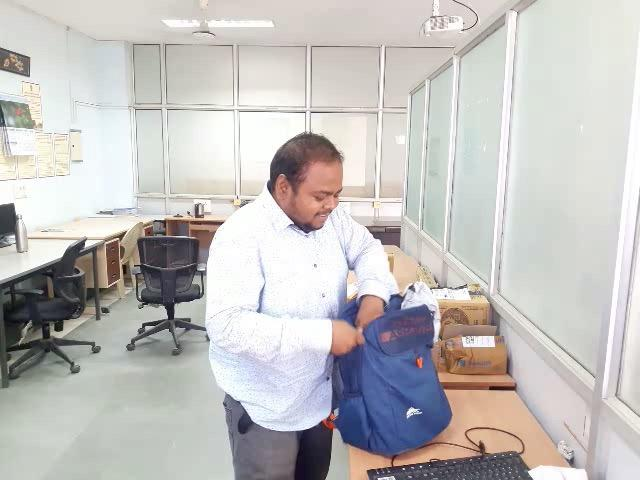shoplifting: (176, 242, 534, 480)
